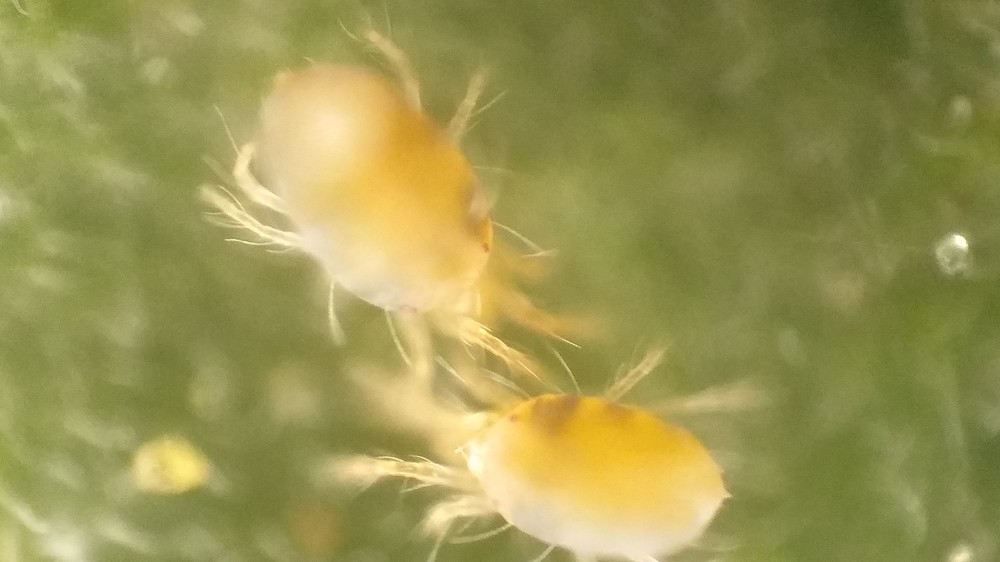Aracnido Rojo: (193, 34, 639, 390), (340, 370, 815, 562)
